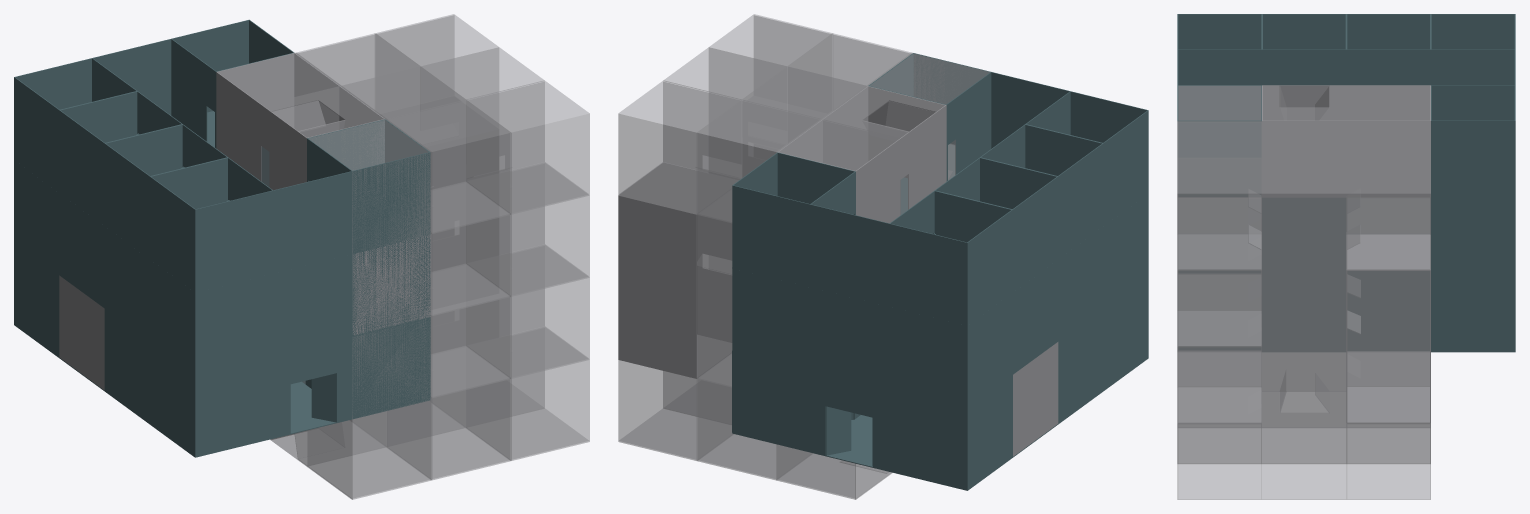
The model's file is 第七组.glb.
3 renders of one model, left to right at view 1: azimuth 30°, elevation 25°; view 2: azimuth 150°, elevation 25°; view 3: azimuth 270°, elevation 25°, orthographic. The views are drawn at different scales.
Size of the model in its own units: 0.0252 by 0.02 by 0.02.
